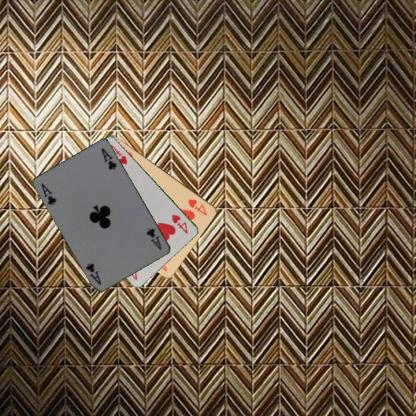4h: (170, 212, 190, 235), (186, 196, 208, 216)
Ac: (38, 180, 58, 206), (144, 226, 163, 251)
